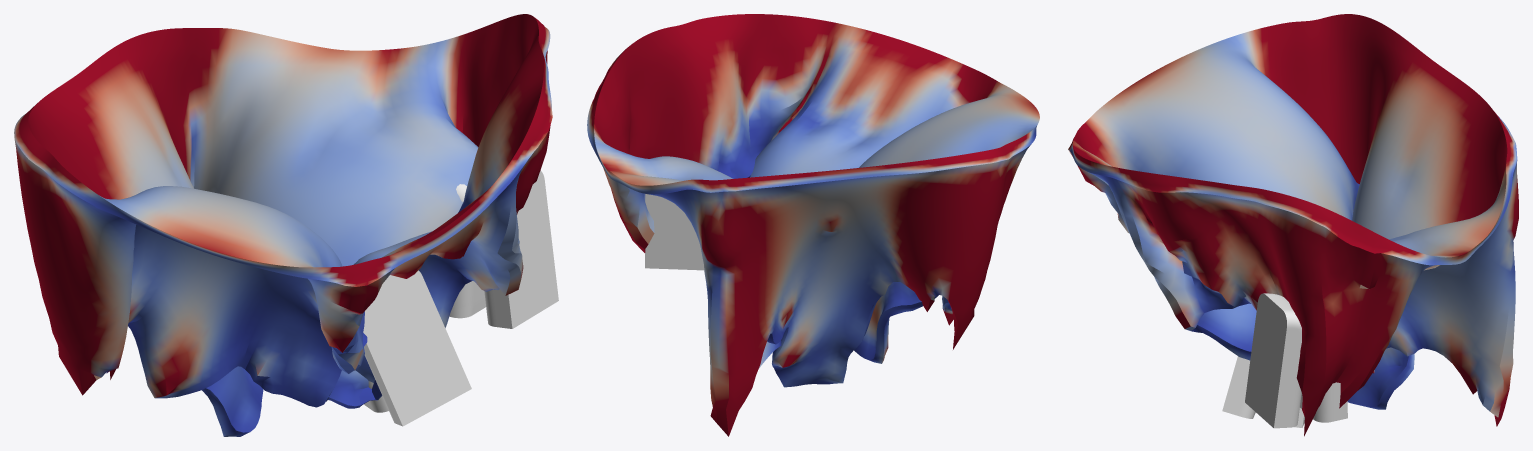
File: AR_Model_5_Android.glb
3 views of the same model, side by side, from view 1: azimuth 30°, elevation 25°; view 2: azimuth 150°, elevation 25°; view 3: azimuth 270°, elevation 25° (orthographic). The views are drawn at different scales.
Parts seen in each view (by area): view 1: OCS14_PM_3042_MPS_250, OCS14_PM_3042_C2A2, OCS14_PM_3042_C1A2, OCS14_PM_3042_C1A1; view 2: OCS14_PM_3042_MPS_250, OCS14_PM_3042_C1A1; view 3: OCS14_PM_3042_MPS_250, OCS14_PM_3042_C1A2, OCS14_PM_3042_C2A2, OCS14_PM_3042_C1A1.
Part boxes in pixels (x1,y1,x2,y2): OCS14_PM_3042_MPS_250: [14, 14, 552, 436]; OCS14_PM_3042_C2A2: [363, 270, 471, 426]; OCS14_PM_3042_C1A2: [484, 170, 558, 328]; OCS14_PM_3042_C1A1: [449, 184, 485, 318]; OCS14_PM_3042_MPS_250: [587, 14, 1039, 436]; OCS14_PM_3042_C1A1: [645, 194, 704, 270]; OCS14_PM_3042_MPS_250: [1068, 14, 1518, 436]; OCS14_PM_3042_C1A2: [1245, 293, 1301, 428]; OCS14_PM_3042_C2A2: [1222, 356, 1255, 418]; OCS14_PM_3042_C1A1: [1300, 382, 1347, 422].
Bounding box in the file's own units: 0.3672 × 0.2618 × 0.331.
